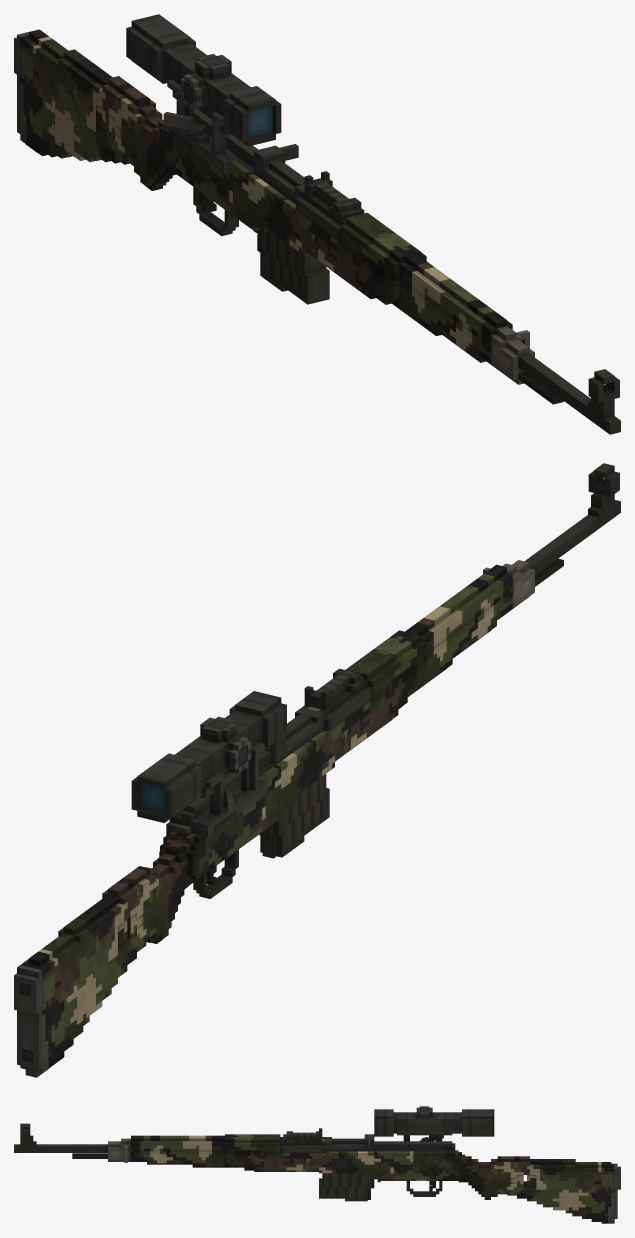
Rendered from RD_GEWEHR43_MILITARY1945.glb.
3 views of the same model, one above another, from view 1: azimuth 30°, elevation 25°; view 2: azimuth 150°, elevation 25°; view 3: azimuth 270°, elevation 25° (orthographic). The views are drawn at different scales.
Parts seen in each view (by area): view 1: GEWEHR43, GEWEHR43_SCOPE, GEWEHR43_CLIP, GEWEHR43_BOLT; view 2: GEWEHR43, GEWEHR43_SCOPE, GEWEHR43_CLIP, GEWEHR43_BOLT; view 3: GEWEHR43, GEWEHR43_SCOPE, GEWEHR43_CLIP, GEWEHR43_BOLT.
Part boxes in pixels (x1=…): GEWEHR43: x1=14, y1=29, x2=620, y2=434; GEWEHR43_SCOPE: x1=126, y1=14, x2=281, y2=173; GEWEHR43_CLIP: x1=257, y1=230, x2=329, y2=304; GEWEHR43_BOLT: x1=254, y1=144, x2=304, y2=203; GEWEHR43: x1=14, y1=463, x2=620, y2=1077; GEWEHR43_SCOPE: x1=131, y1=691, x2=286, y2=836; GEWEHR43_CLIP: x1=259, y1=774, x2=329, y2=858; GEWEHR43_BOLT: x1=264, y1=707, x2=323, y2=764; GEWEHR43: x1=14, y1=1123, x2=620, y2=1223; GEWEHR43_SCOPE: x1=374, y1=1106, x2=494, y2=1144; GEWEHR43_CLIP: x1=319, y1=1173, x2=374, y2=1201; GEWEHR43_BOLT: x1=322, y1=1134, x2=374, y2=1151.
Bounding box in the file's own units: 0.1126 × 0.374 × 1.84.
Materials: 1 (1 with a texture image).
